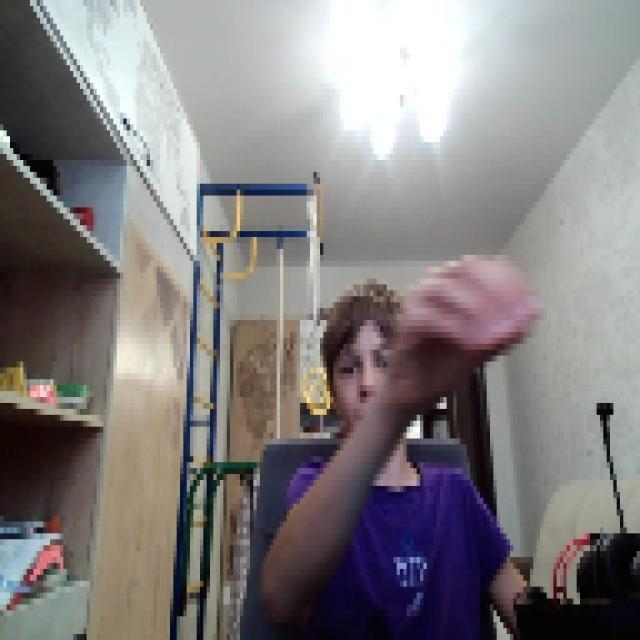left_click: (393, 243, 537, 409)
